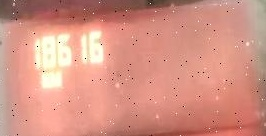1: (31, 32, 40, 69), (79, 29, 87, 67)
6: (88, 26, 103, 63), (56, 30, 72, 64)
8: (40, 34, 55, 69)
X: (48, 69, 61, 88), (39, 70, 48, 88)
